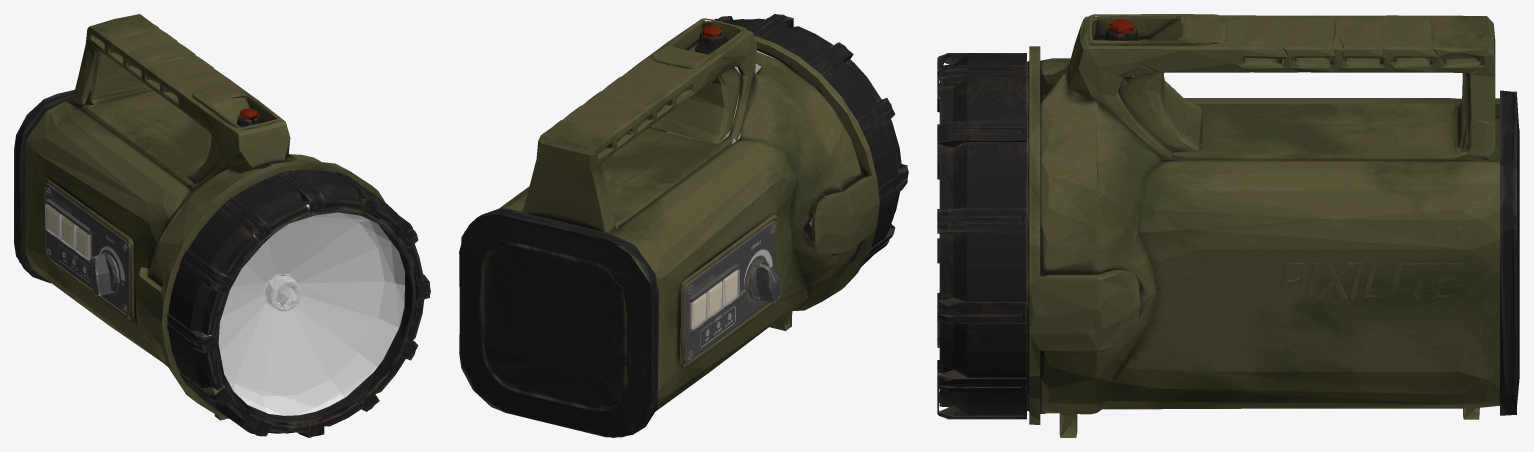
The model's file is PortableSearchlight.obj.
The picture shows the model from 3 angles, left to right: view 1: azimuth 30°, elevation 25°; view 2: azimuth 150°, elevation 25°; view 3: azimuth 270°, elevation 25°; orthographic projection. The views are drawn at different scales.
Visible parts, largest first — view 1: Circle_048, Circle_048_1; view 2: Circle_048, Circle_048_1; view 3: Circle_048.
Part boxes in pixels (bbox=[...]): Circle_048: bbox=[14, 14, 430, 437]; Circle_048_1: bbox=[45, 204, 404, 415]; Circle_048: bbox=[459, 14, 908, 437]; Circle_048_1: bbox=[690, 269, 739, 336]; Circle_048: bbox=[937, 14, 1519, 437].
Bounding box in the file's own units: 0.1653 × 0.1855 × 0.2534.
2 materials, 1 textured.
